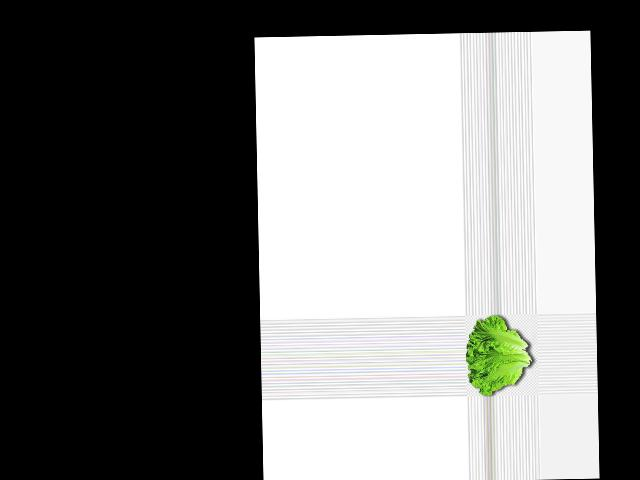lettuce: (465, 312, 534, 394)
